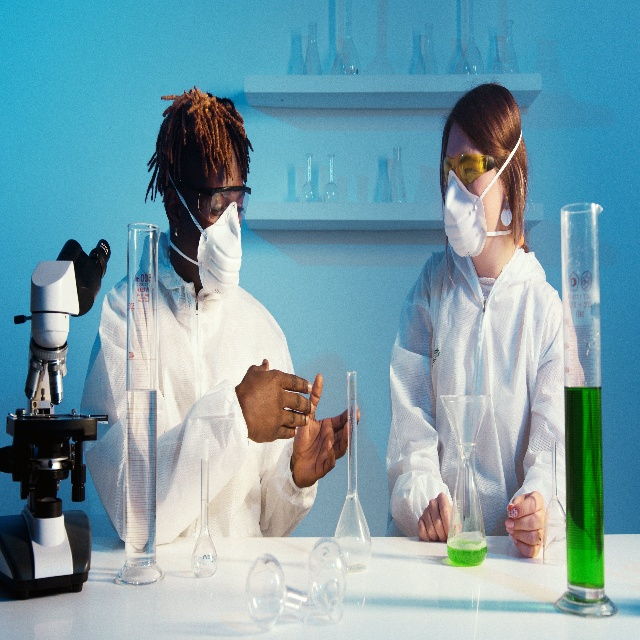Gafas: (178, 179, 252, 217), (442, 154, 495, 191)
Mascara: (442, 167, 489, 261), (198, 209, 242, 298)
Sin_guantes: (294, 370, 360, 493), (240, 357, 315, 443), (504, 490, 546, 557), (418, 492, 461, 542)
